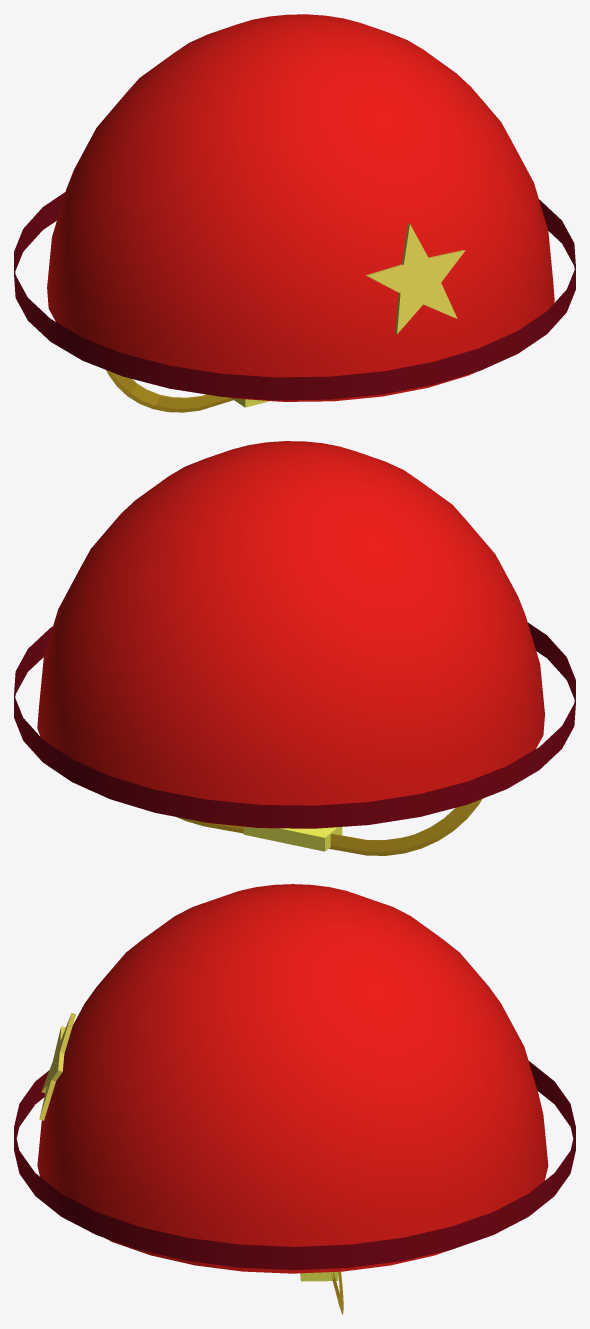
File: helm.glb
3 renders of one model, top to bottom at view 1: azimuth 30°, elevation 25°; view 2: azimuth 150°, elevation 25°; view 3: azimuth 270°, elevation 25°, orthographic.
Parts seen in each view (by area): view 1: Sphere, Cylinder, Circle.002, Circle.001; view 2: Sphere, Cylinder, Circle.001, Cube; view 3: Sphere, Cylinder, Circle.002.
Part boxes in pixels (x1=…): Sphere: x1=47, y1=14, x2=554, y2=401; Cylinder: x1=14, y1=192, x2=575, y2=400; Circle.002: x1=366, y1=223, x2=465, y2=334; Circle.001: x1=106, y1=370, x2=233, y2=412; Sphere: x1=37, y1=441, x2=544, y2=828; Cylinder: x1=14, y1=622, x2=575, y2=828; Circle.001: x1=177, y1=799, x2=482, y2=855; Cube: x1=243, y1=826, x2=342, y2=851; Sphere: x1=37, y1=884, x2=548, y2=1273; Cylinder: x1=14, y1=1061, x2=575, y2=1269; Circle.002: x1=39, y1=1013, x2=75, y2=1120.
Size of the model in its own units: 2.22 by 1.57 by 2.2.
